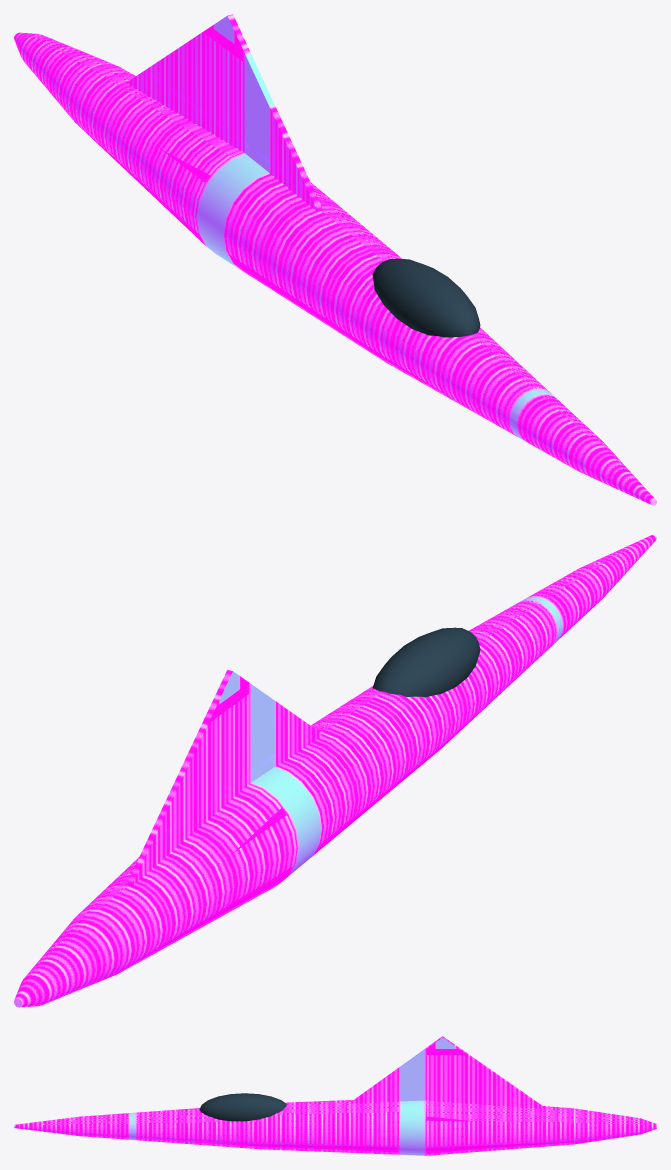
File: HULL.glb
The picture shows the model from 3 angles, top to bottom: view 1: azimuth 30°, elevation 25°; view 2: azimuth 150°, elevation 25°; view 3: azimuth 270°, elevation 25°; orthographic projection. The views are drawn at different scales.
Parts seen in each view (by area): view 1: HULL_02; view 2: HULL_02; view 3: HULL_02.
Boxes of the visible parts, x1,y1,x2,y2 form: HULL_02: (14,14,656,505); HULL_02: (14,534,656,1007); HULL_02: (14,1036,656,1155).
Bounding box in the file's own units: 0.7199 × 1.56 × 7.8.
Materials: 2 (1 with a texture image).
